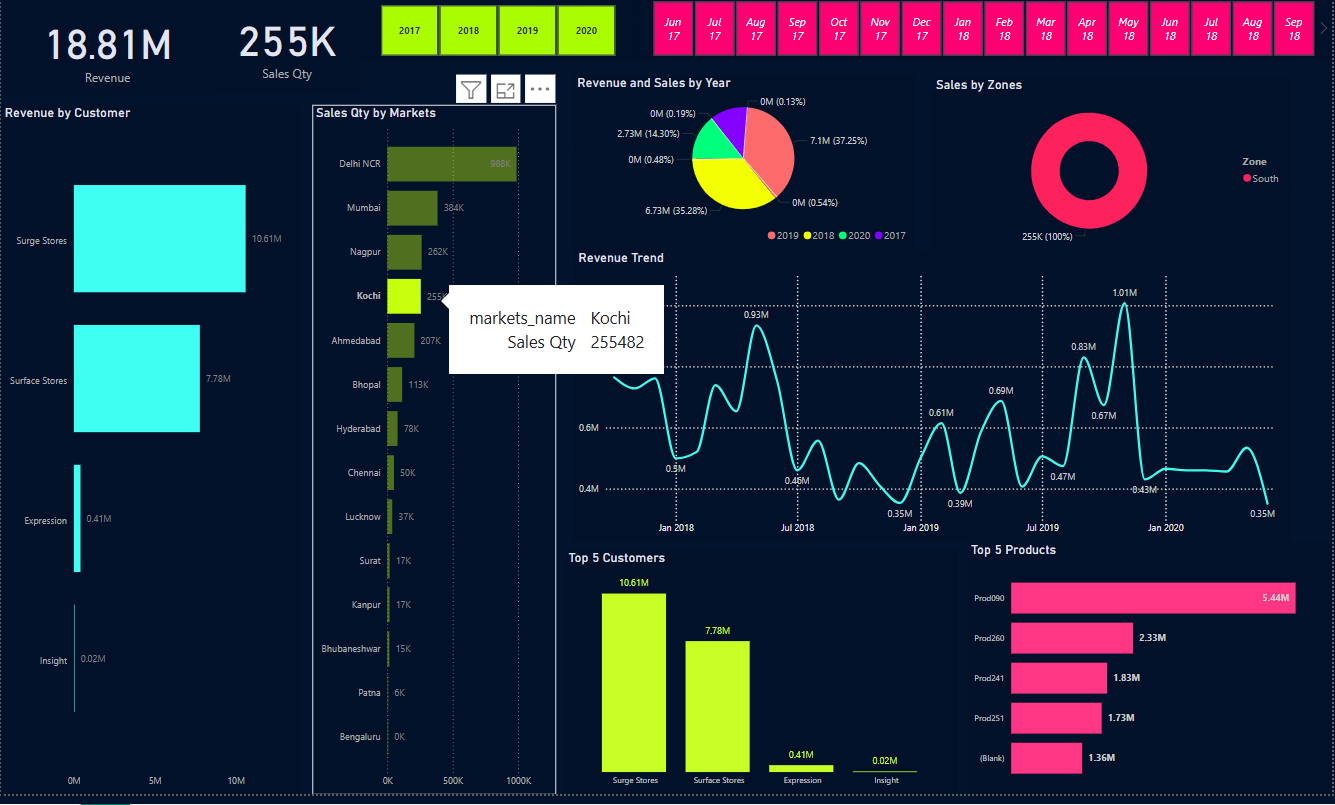

Layout of this report page (visuals, bound fields, positions):
{"tool":"powerbi","page":{"name":"Dashboard","canvas":[1750,1050],"ordinal":0},"visuals":[{"type":"card","fields":{"Values":["BaseMeasures.Revenue"]},"box":[1.6,4.8,277.5,125.8],"z":0},{"type":"card","fields":{"Values":["BaseMeasures.Sales Qty"]},"box":[279.1,0,193.6,127.5],"z":1000},{"type":"barChart","title":"Revenue by Customer","fields":{"Category":["sales customers.custmer_name"],"Y":["BaseMeasures.Revenue"]},"box":[0,143,392.8,907.3],"z":2000},{"type":"barChart","title":"Sales Qty by Markets","fields":{"Category":["sales markets.markets_name"],"Y":["BaseMeasures.Sales Qty"]},"box":[409.3,143,320.5,907.3],"z":3000},{"type":"donutChart","title":"Sales by Zones","fields":{"Y":["BaseMeasures.Sales Qty"],"Category":["sales markets.zone"]},"box":[1224.6,106.8,470.1,226.8],"z":4000},{"type":"slicer","fields":{"Values":["sales date.year"]},"box":[473.4,4.9,358.3,80.5],"z":5000},{"type":"slicer","title":"Months","fields":{"Values":["sales date.cy_date"]},"box":[831.7,0,918.8,85.5],"z":6000},{"type":"columnChart","title":"Top 5 Customers","fields":{"Category":["sales customers.custmer_name"],"Y":["BaseMeasures.Revenue"]},"box":[741.3,728.2,516.1,320.5],"z":7000},{"type":"pieChart","title":"Revenue and Sales by Year","fields":{"Category":["sales date.year"],"Y":["BaseMeasures.Revenue","BaseMeasures.Sales Qty"]},"box":[752.8,103.6,447.1,230.1],"z":8000},{"type":"barChart","title":"Top 5 Products","fields":{"Y":["BaseMeasures.Revenue"],"Category":["sales products.product_code"]},"box":[1270.6,718.3,480,332],"z":9000},{"type":"lineChart","title":"Revenue Trend","fields":{"Category":["sales date.cy_date"],"Y":["BaseMeasures.Revenue"]},"box":[754.5,333.7,940.2,384.6],"z":10000}]}

Visuals, with their boxes in screenshot pixels (x1, y1, x2, y2), scaled from the page's 1750x1050 canvas onto the 1335x805 screenshot:
card - BaseMeasures.Revenue: (1, 4, 213, 100)
card - BaseMeasures.Sales Qty: (213, 0, 361, 98)
"Revenue by Customer" barChart: (0, 110, 300, 804)
"Sales Qty by Markets" barChart: (312, 110, 557, 804)
"Sales by Zones" donutChart: (934, 82, 1293, 256)
slicer - sales date.year: (361, 4, 634, 65)
"Months" slicer: (634, 0, 1334, 66)
"Top 5 Customers" columnChart: (566, 558, 959, 804)
"Revenue and Sales by Year" pieChart: (574, 79, 915, 256)
"Top 5 Products" barChart: (969, 551, 1334, 804)
"Revenue Trend" lineChart: (576, 256, 1293, 551)
